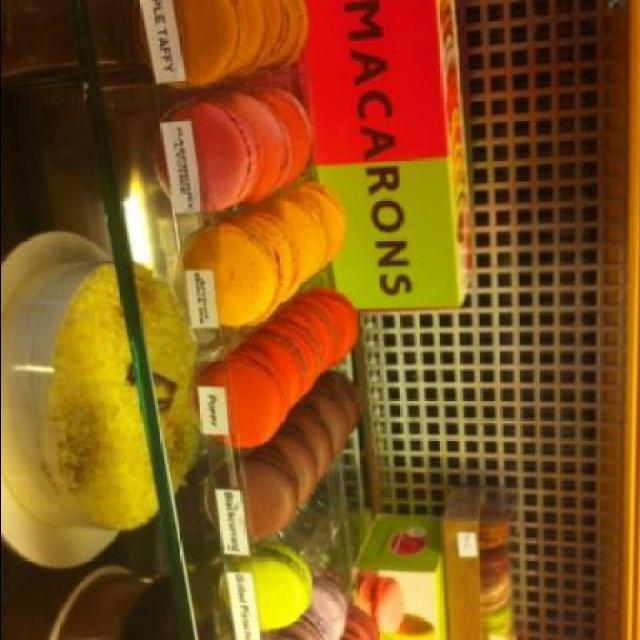Macaron: (160, 1, 362, 639), (451, 487, 526, 639)
